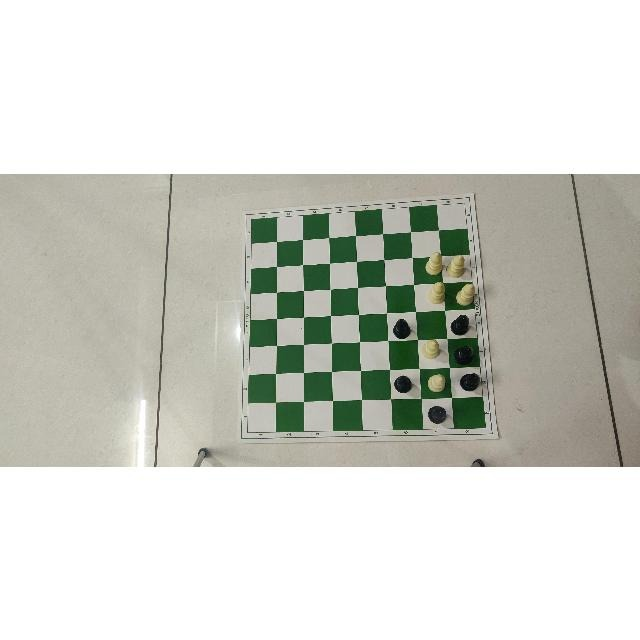black-bishop: (392, 317, 416, 339), (394, 371, 414, 394), (460, 369, 480, 390), (454, 343, 475, 363), (451, 314, 471, 334), (428, 403, 446, 423)
white-bishop: (456, 282, 478, 308), (446, 248, 465, 278), (425, 246, 443, 274), (421, 334, 441, 358), (427, 369, 446, 392), (427, 280, 445, 304)
